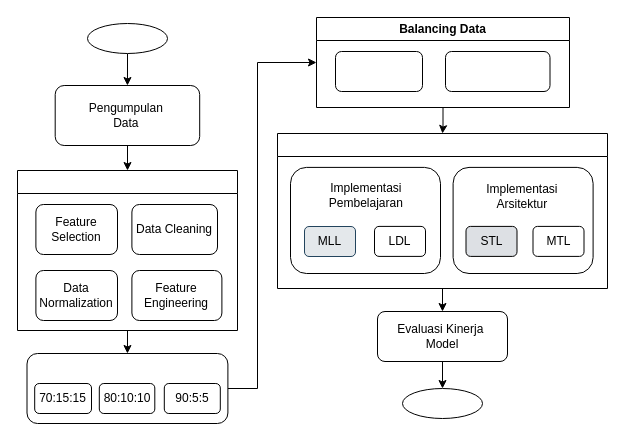
This 625x441 diagram has some shape labels left out. Each missing label, with the box of its shape:
Data Preprocessing: (16, 170, 238, 330)
Data Splitting: (26, 352, 228, 424)
END: (402, 388, 482, 418)
Implementasi Model: (276, 132, 608, 288)
Random Undersampling: (444, 50, 550, 92)
START: (86, 22, 168, 54)
Tanpa Balancing: (334, 50, 422, 92)
